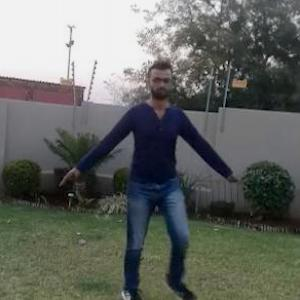land: (68, 62, 240, 296)
